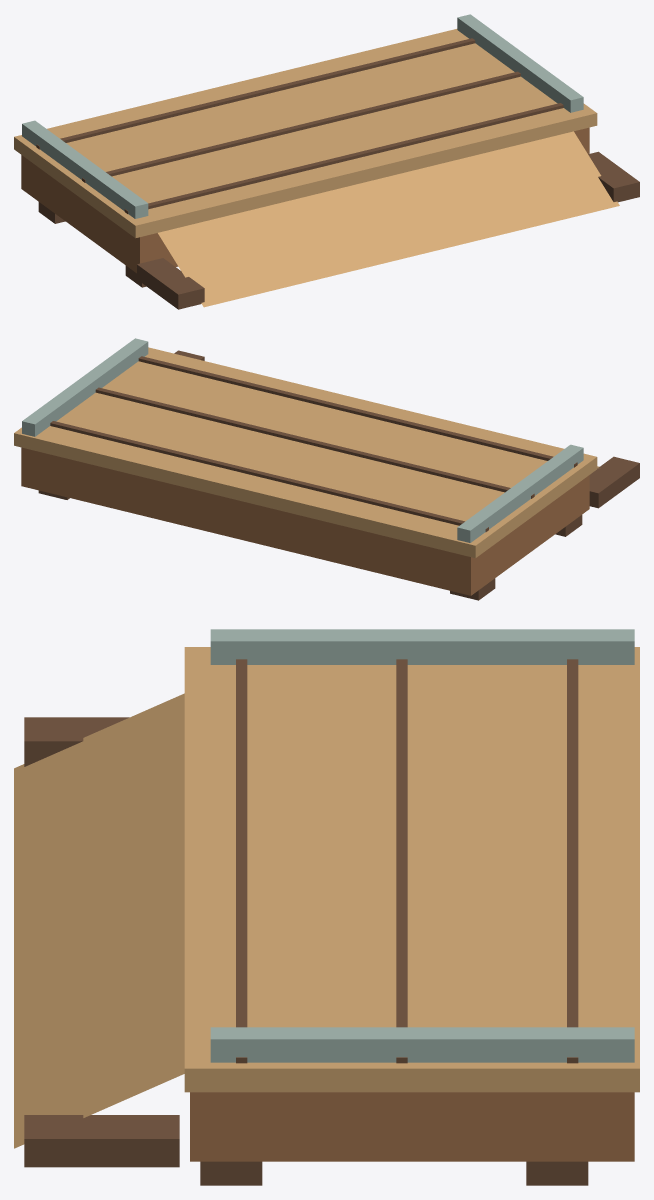
The model's file is loading-platform.glb.
3 views of the same model, one above another, from view 1: azimuth 30°, elevation 25°; view 2: azimuth 150°, elevation 25°; view 3: azimuth 270°, elevation 25° (orthographic). The views are drawn at different scales.
Visible parts, largest first — view 1: loading-platform_woodLight, loading-platform_woodDark, loading-platform_metal, loading-platform_wood; view 2: loading-platform_woodLight, loading-platform_wood, loading-platform_woodDark, loading-platform_metal; view 3: loading-platform_woodLight, loading-platform_wood, loading-platform_metal, loading-platform_woodDark.
Part boxes in pixels (x1,y1,x2,y2): loading-platform_woodLight: (14,29,619,307); loading-platform_woodDark: (36,38,639,309); loading-platform_metal: (22,14,583,218); loading-platform_wood: (21,127,589,273); loading-platform_woodLight: (14,347,599,558); loading-platform_wood: (21,447,589,595); loading-platform_woodDark: (38,350,639,600); loading-platform_metal: (22,338,583,542); loading-platform_woodLight: (14,647,639,1148); loading-platform_wood: (190,1092,634,1161); loading-platform_metal: (210,629,634,1062); loading-platform_woodDark: (24,659,588,1185).
Size of the model in its own units: 1.93 by 0.32 by 1.21.
